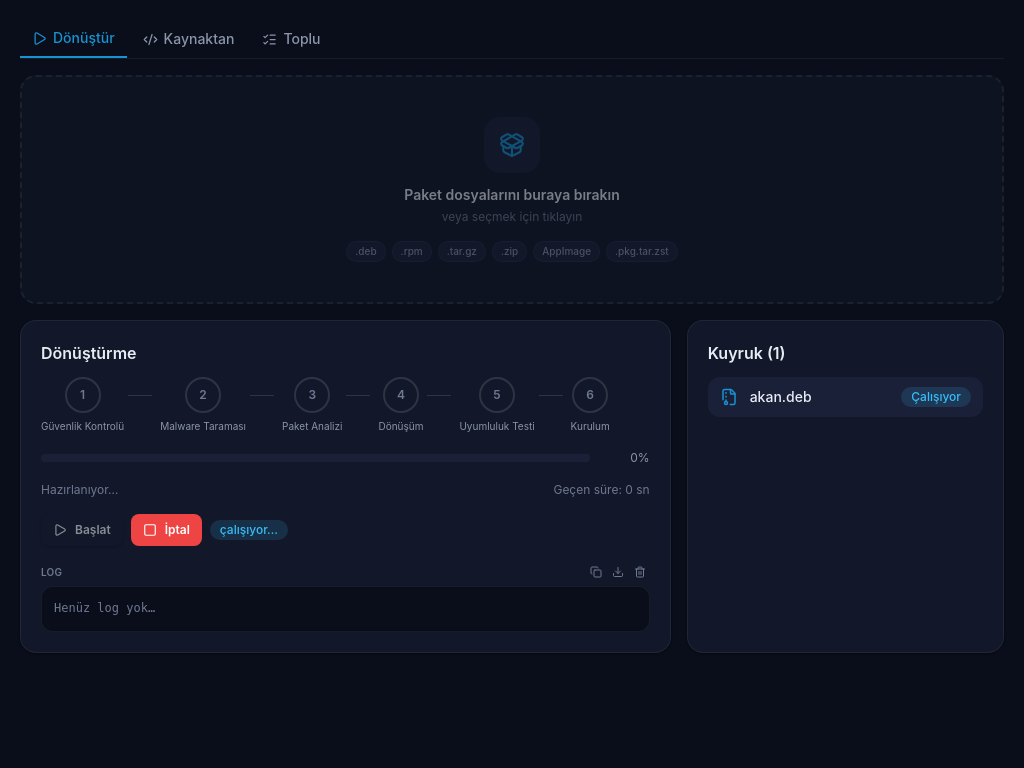
Convert page › shows an error toast when pipeline.cancel fails
expect the text "çalışıyor…" is shown: met, box [210,520,288,540]
Step 1. Click the button "İptal" → [166, 530], box [131,514,202,546]
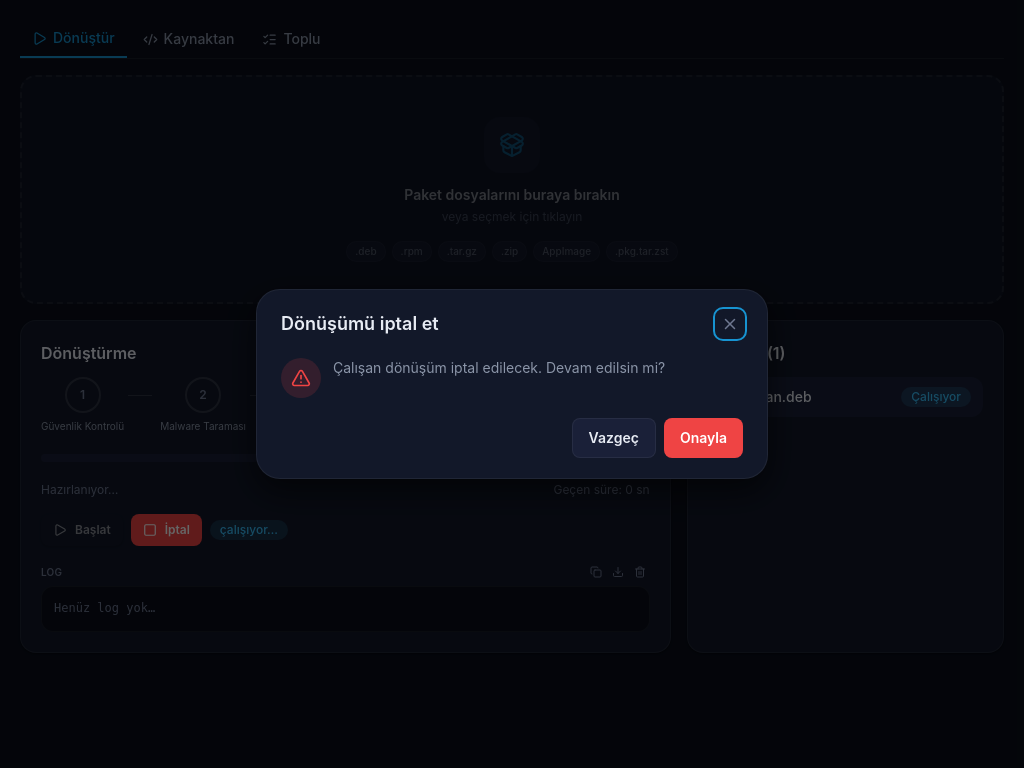
Step 2. Click the button "Onayla" → [703, 438], box [664,418,743,458]
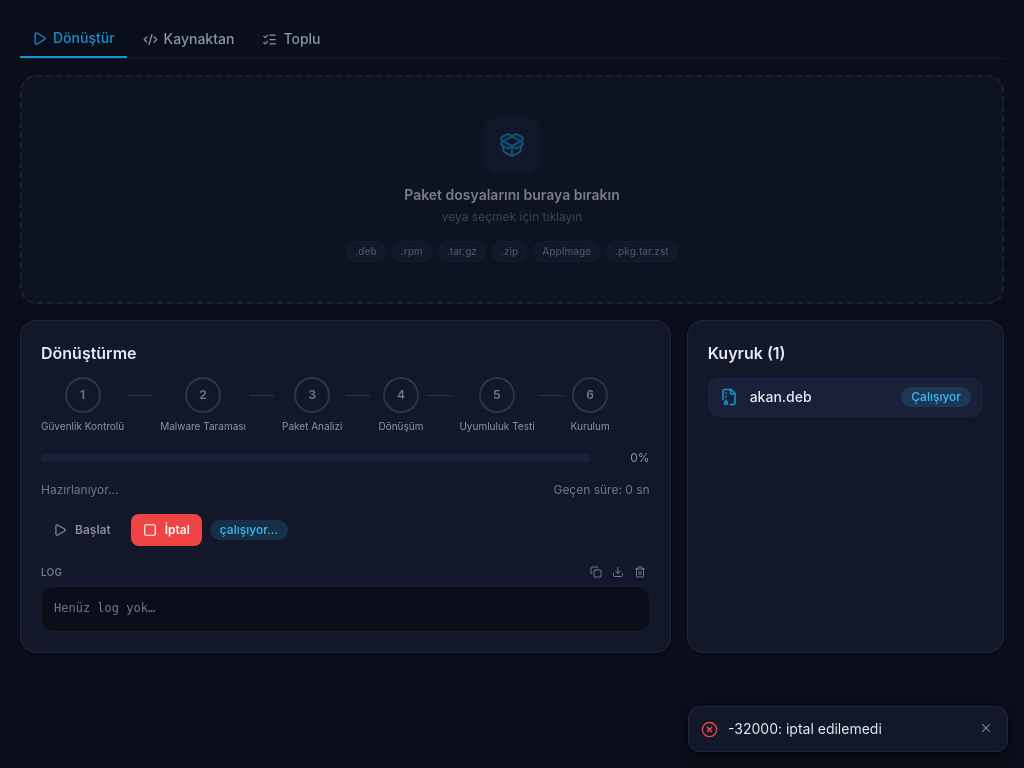
expect the text "-32000: iptal edilemedi" is shown: met, box [728,720,882,737]
